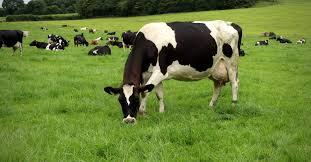cow: (104, 20, 245, 126), (0, 29, 24, 57), (122, 30, 137, 52), (47, 33, 69, 47), (88, 45, 111, 56), (74, 33, 89, 48), (29, 40, 48, 50), (46, 42, 64, 51), (277, 36, 293, 44), (106, 41, 123, 48), (90, 36, 102, 45), (255, 39, 268, 47), (296, 36, 306, 45), (106, 36, 120, 42), (23, 30, 29, 40), (89, 27, 97, 34), (80, 26, 88, 31), (107, 31, 116, 35), (61, 24, 68, 27), (74, 28, 78, 32)
